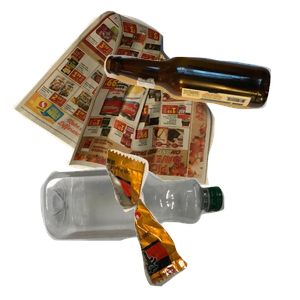glass: (101, 52, 300, 154)
paper: (10, 10, 217, 189)
plastic: (38, 165, 255, 300)
trash: (103, 147, 300, 300)
